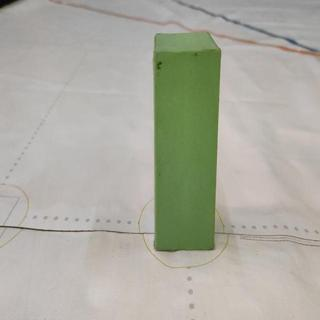greenbox: (153, 29, 222, 253)
